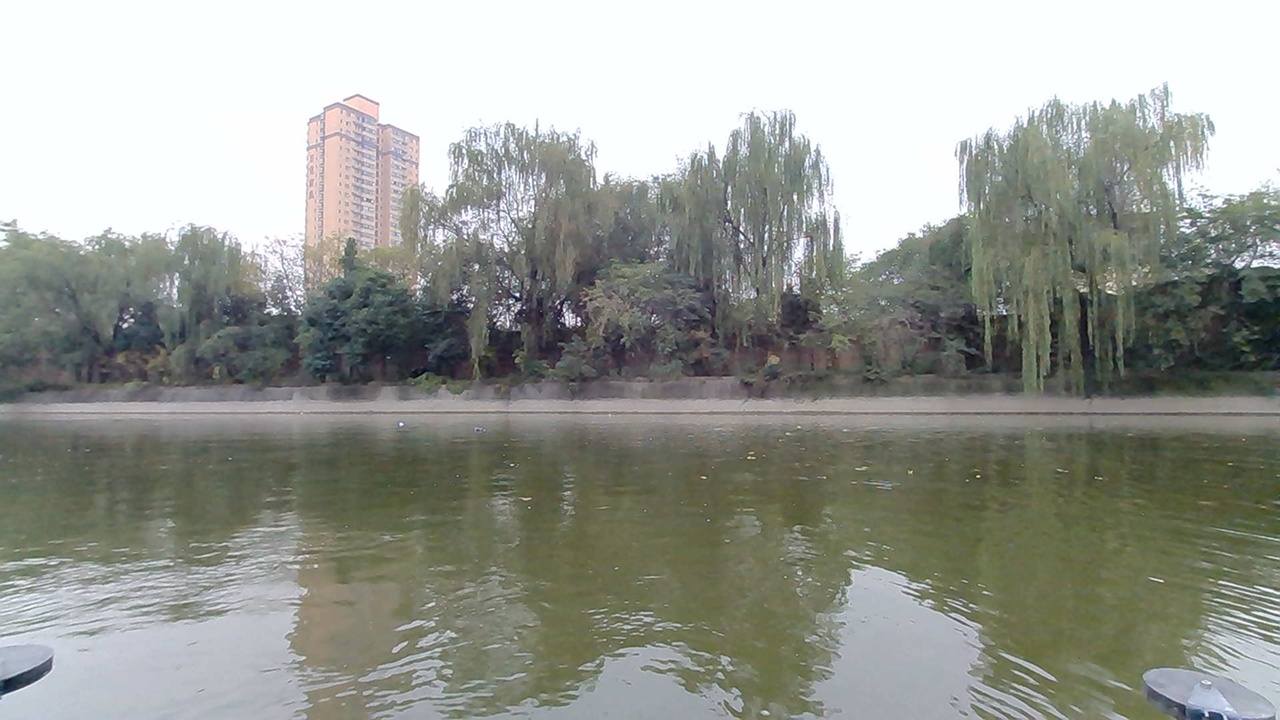bottle: (463, 421, 495, 439)
